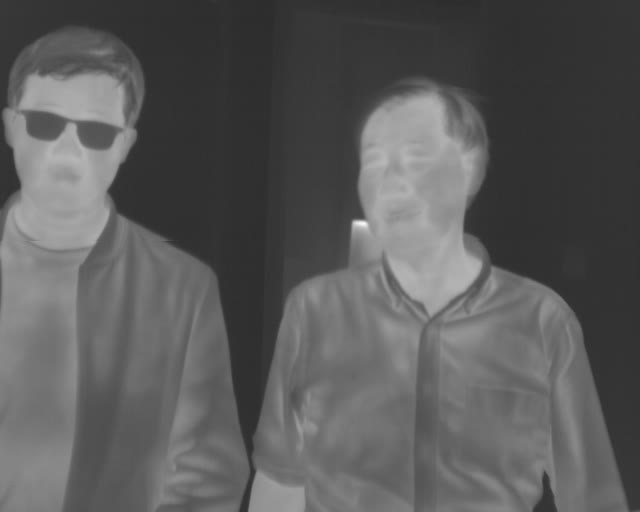face: (1, 25, 146, 216), (354, 75, 490, 260)
